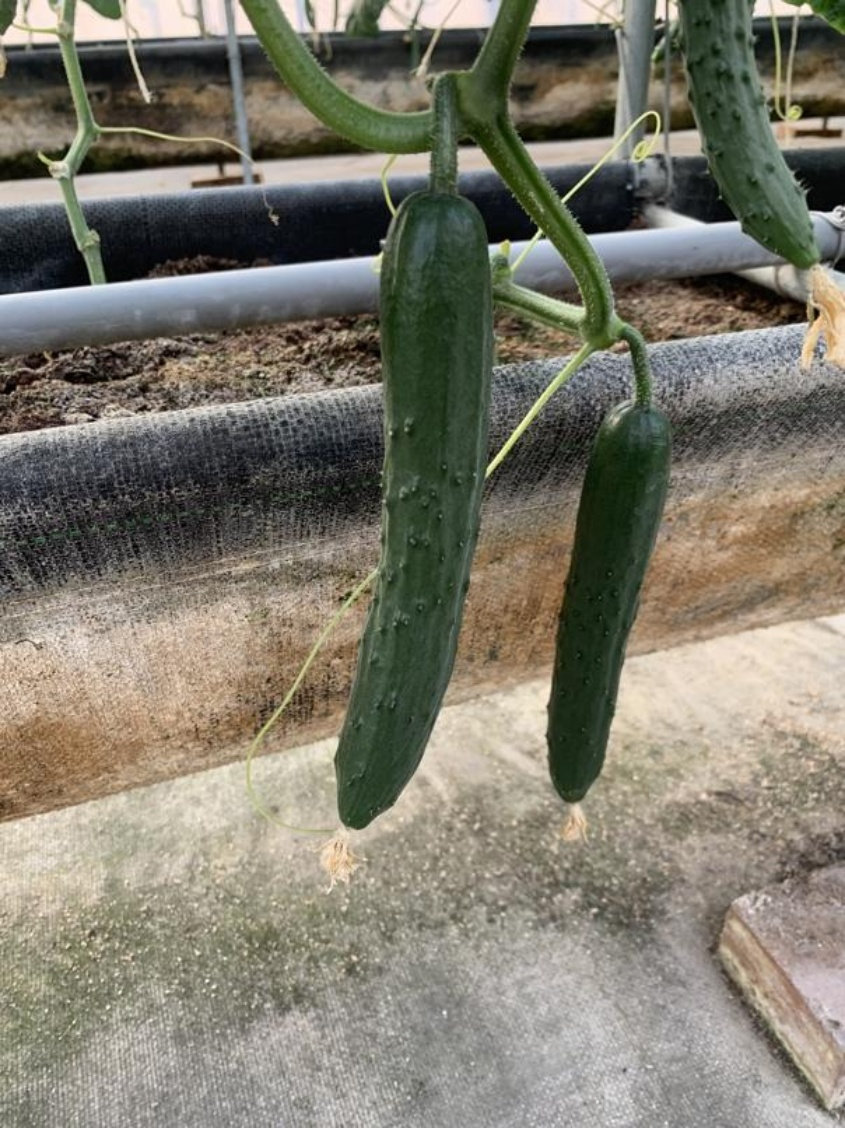mature: (331, 229, 502, 830)
